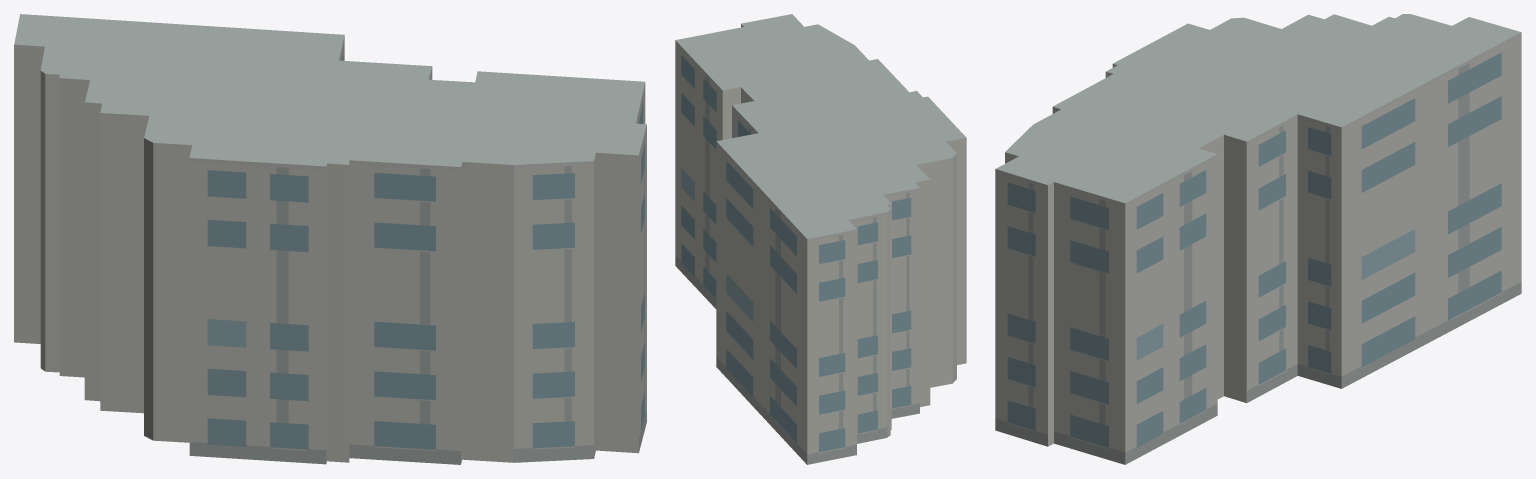
The model's file is survey-upis-33005228.glb.
3 renders of one model, left to right at view 1: azimuth 30°, elevation 25°; view 2: azimuth 150°, elevation 25°; view 3: azimuth 270°, elevation 25°, orthographic. The views are drawn at different scales.
Visible parts, largest first — view 1: survey-upis-33005228.tmp; view 2: survey-upis-33005228.tmp; view 3: survey-upis-33005228.tmp.
Part boxes in pixels (bbox=[...]): survey-upis-33005228.tmp: bbox=[14, 14, 646, 464]; survey-upis-33005228.tmp: bbox=[675, 14, 966, 464]; survey-upis-33005228.tmp: bbox=[995, 14, 1521, 464].
Size of the model in its own units: 29.05 by 18.7 by 34.1.
